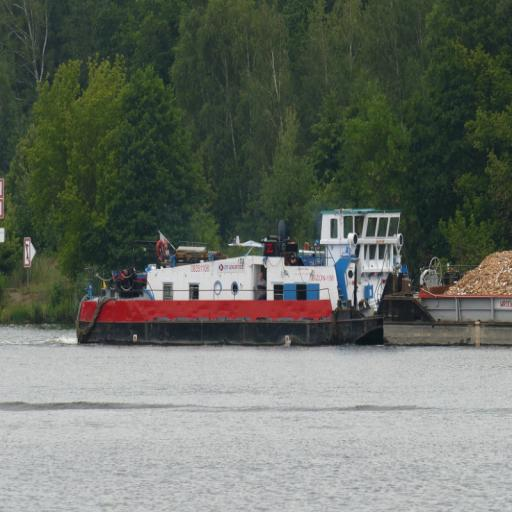tugboat: (75, 203, 406, 355)
